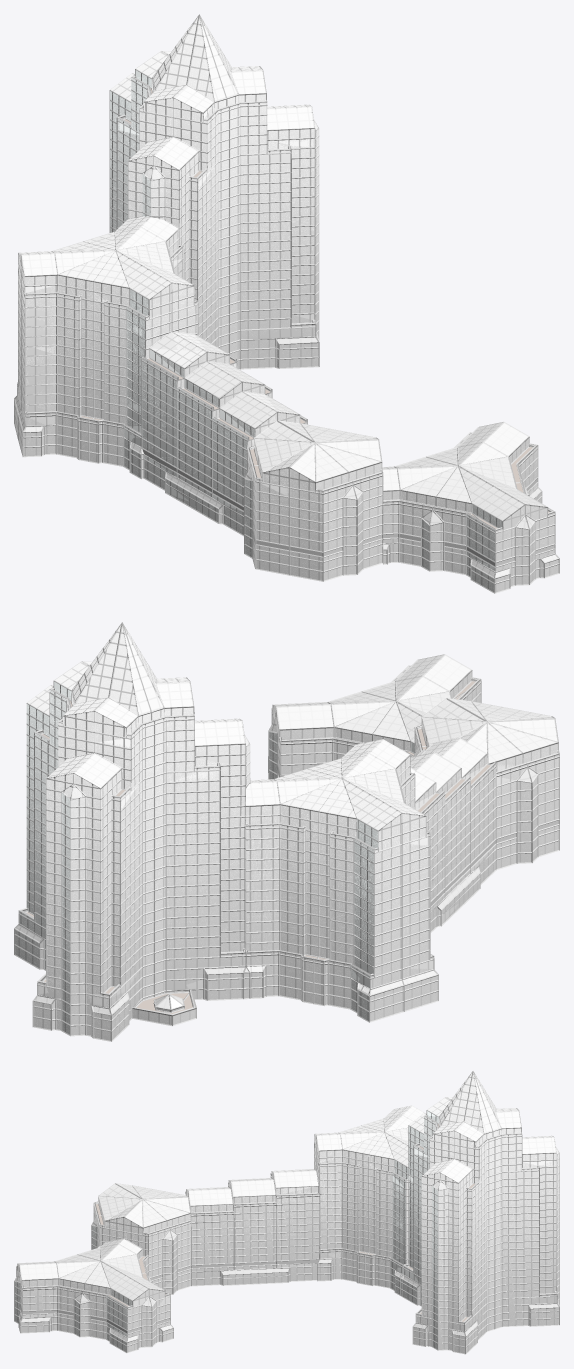
The model's file is nurli.glb.
3 renders of one model, top to bottom at view 1: azimuth 30°, elevation 25°; view 2: azimuth 150°, elevation 25°; view 3: azimuth 270°, elevation 25°, orthographic. The views are drawn at different scales.
Visible parts, largest first — view 1: nurli-base, nurli-base-shell, nurli-base-edge; view 2: nurli-base, nurli-base-shell, nurli-base-edge; view 3: nurli-base, nurli-base-shell, nurli-base-edge.
Part boxes in pixels (<box>): nurli-base: <box>14,19,558,592</box>; nurli-base-shell: <box>14,17,558,591</box>; nurli-base-edge: <box>14,14,559,593</box>; nurli-base: <box>15,628,558,1040</box>; nurli-base-shell: <box>15,625,559,1039</box>; nurli-base-edge: <box>14,622,559,1041</box>; nurli-base: <box>15,1075,558,1353</box>; nurli-base-shell: <box>14,1073,559,1352</box>; nurli-base-edge: <box>14,1071,559,1354</box>.
Bounding box in the file's own units: 129 × 123 × 246.
5 materials, 1 textured.
